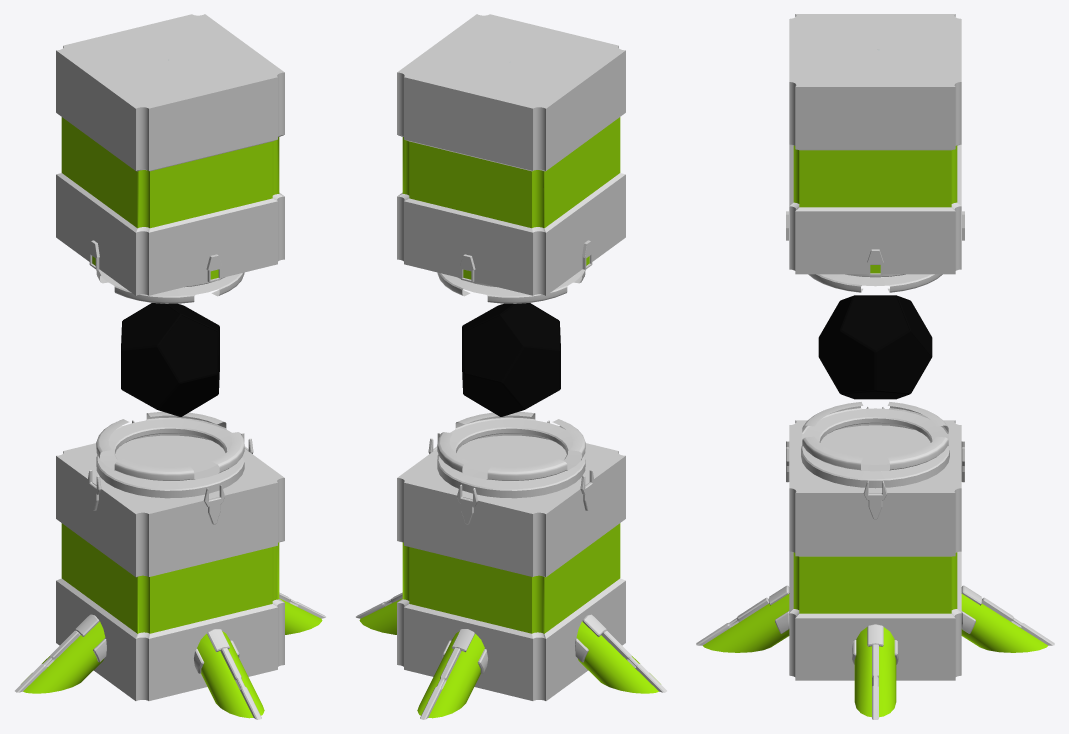
File: Mod_Hedro_Spot.fbx
3 views of the same model, side by side, from view 1: azimuth 30°, elevation 25°; view 2: azimuth 150°, elevation 25°; view 3: azimuth 270°, elevation 25° (orthographic).
Parts seen in each view (by area): view 1: Top_hedro_Spot, Top_hedro_Spot.001, Hedro_Conrtainer, Dodecaedro_low, sec_detail_spot.002, sec_detail_spot.001, sec_detail_spot, Cube.021, sec_detail_spot.003; view 2: Top_hedro_Spot, Top_hedro_Spot.001, Hedro_Conrtainer, Dodecaedro_low, sec_detail_spot.002, sec_detail_spot.001, sec_detail_spot, Cube.021, sec_detail_spot.003; view 3: Top_hedro_Spot, Top_hedro_Spot.001, Dodecaedro_low, Hedro_Conrtainer, sec_detail_spot.002, sec_detail_spot.001, sec_detail_spot, Cube.021.
Part boxes in pixels (x1,y1,x2,y2): Top_hedro_Spot: (56, 14, 284, 295); Top_hedro_Spot.001: (56, 435, 284, 700); Hedro_Conrtainer: (96, 269, 244, 498); Dodecaedro_low: (121, 303, 219, 416); sec_detail_spot.002: (21, 598, 322, 718); sec_detail_spot.001: (15, 592, 325, 719); sec_detail_spot: (75, 614, 239, 673); Cube.021: (87, 420, 253, 524); sec_detail_spot.003: (89, 240, 221, 282); Top_hedro_Spot: (397, 14, 625, 295); Top_hedro_Spot.001: (397, 435, 625, 700); Hedro_Conrtainer: (437, 269, 585, 498); Dodecaedro_low: (462, 303, 560, 416); sec_detail_spot.002: (359, 598, 660, 718); sec_detail_spot.001: (356, 592, 666, 719); sec_detail_spot: (442, 614, 606, 673); Cube.021: (428, 420, 594, 524); sec_detail_spot.003: (460, 240, 592, 282); Top_hedro_Spot: (789, 14, 961, 274); Top_hedro_Spot.001: (789, 420, 961, 680); Dodecaedro_low: (818, 295, 932, 399); Hedro_Conrtainer: (801, 274, 949, 488); sec_detail_spot.002: (703, 593, 1047, 717); sec_detail_spot.001: (696, 597, 1054, 719); sec_detail_spot: (768, 585, 982, 664); Cube.021: (786, 407, 964, 519).
Size of the model in its own units: 312 by 571 by 312.
